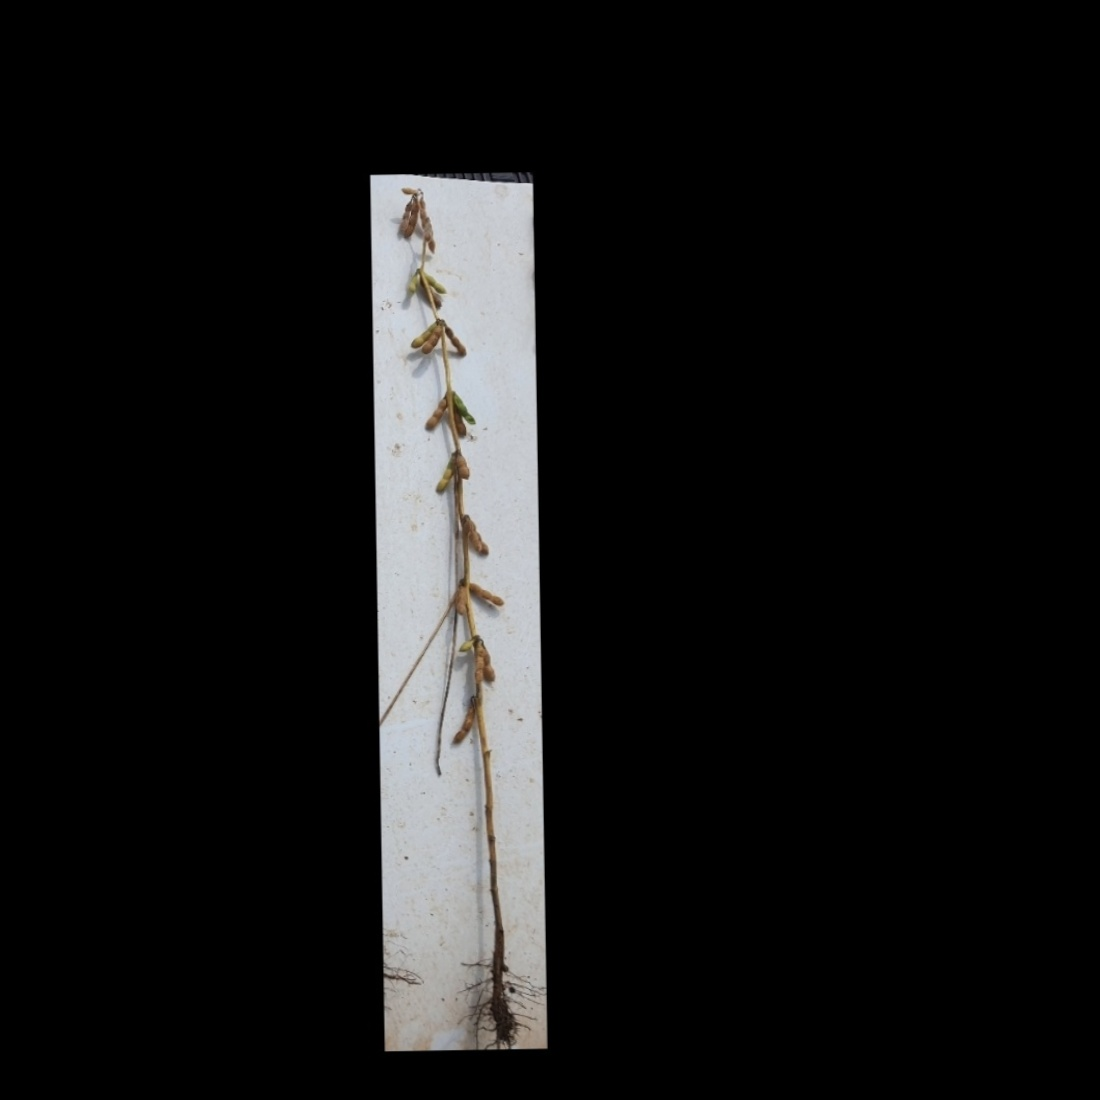pod: (451, 700, 479, 744), (466, 578, 505, 609), (425, 395, 451, 429), (432, 458, 457, 494), (443, 323, 469, 357), (455, 581, 470, 616), (455, 635, 480, 655), (455, 452, 472, 480), (404, 272, 419, 296), (399, 184, 419, 196)
soy: (386, 175, 528, 1037)
